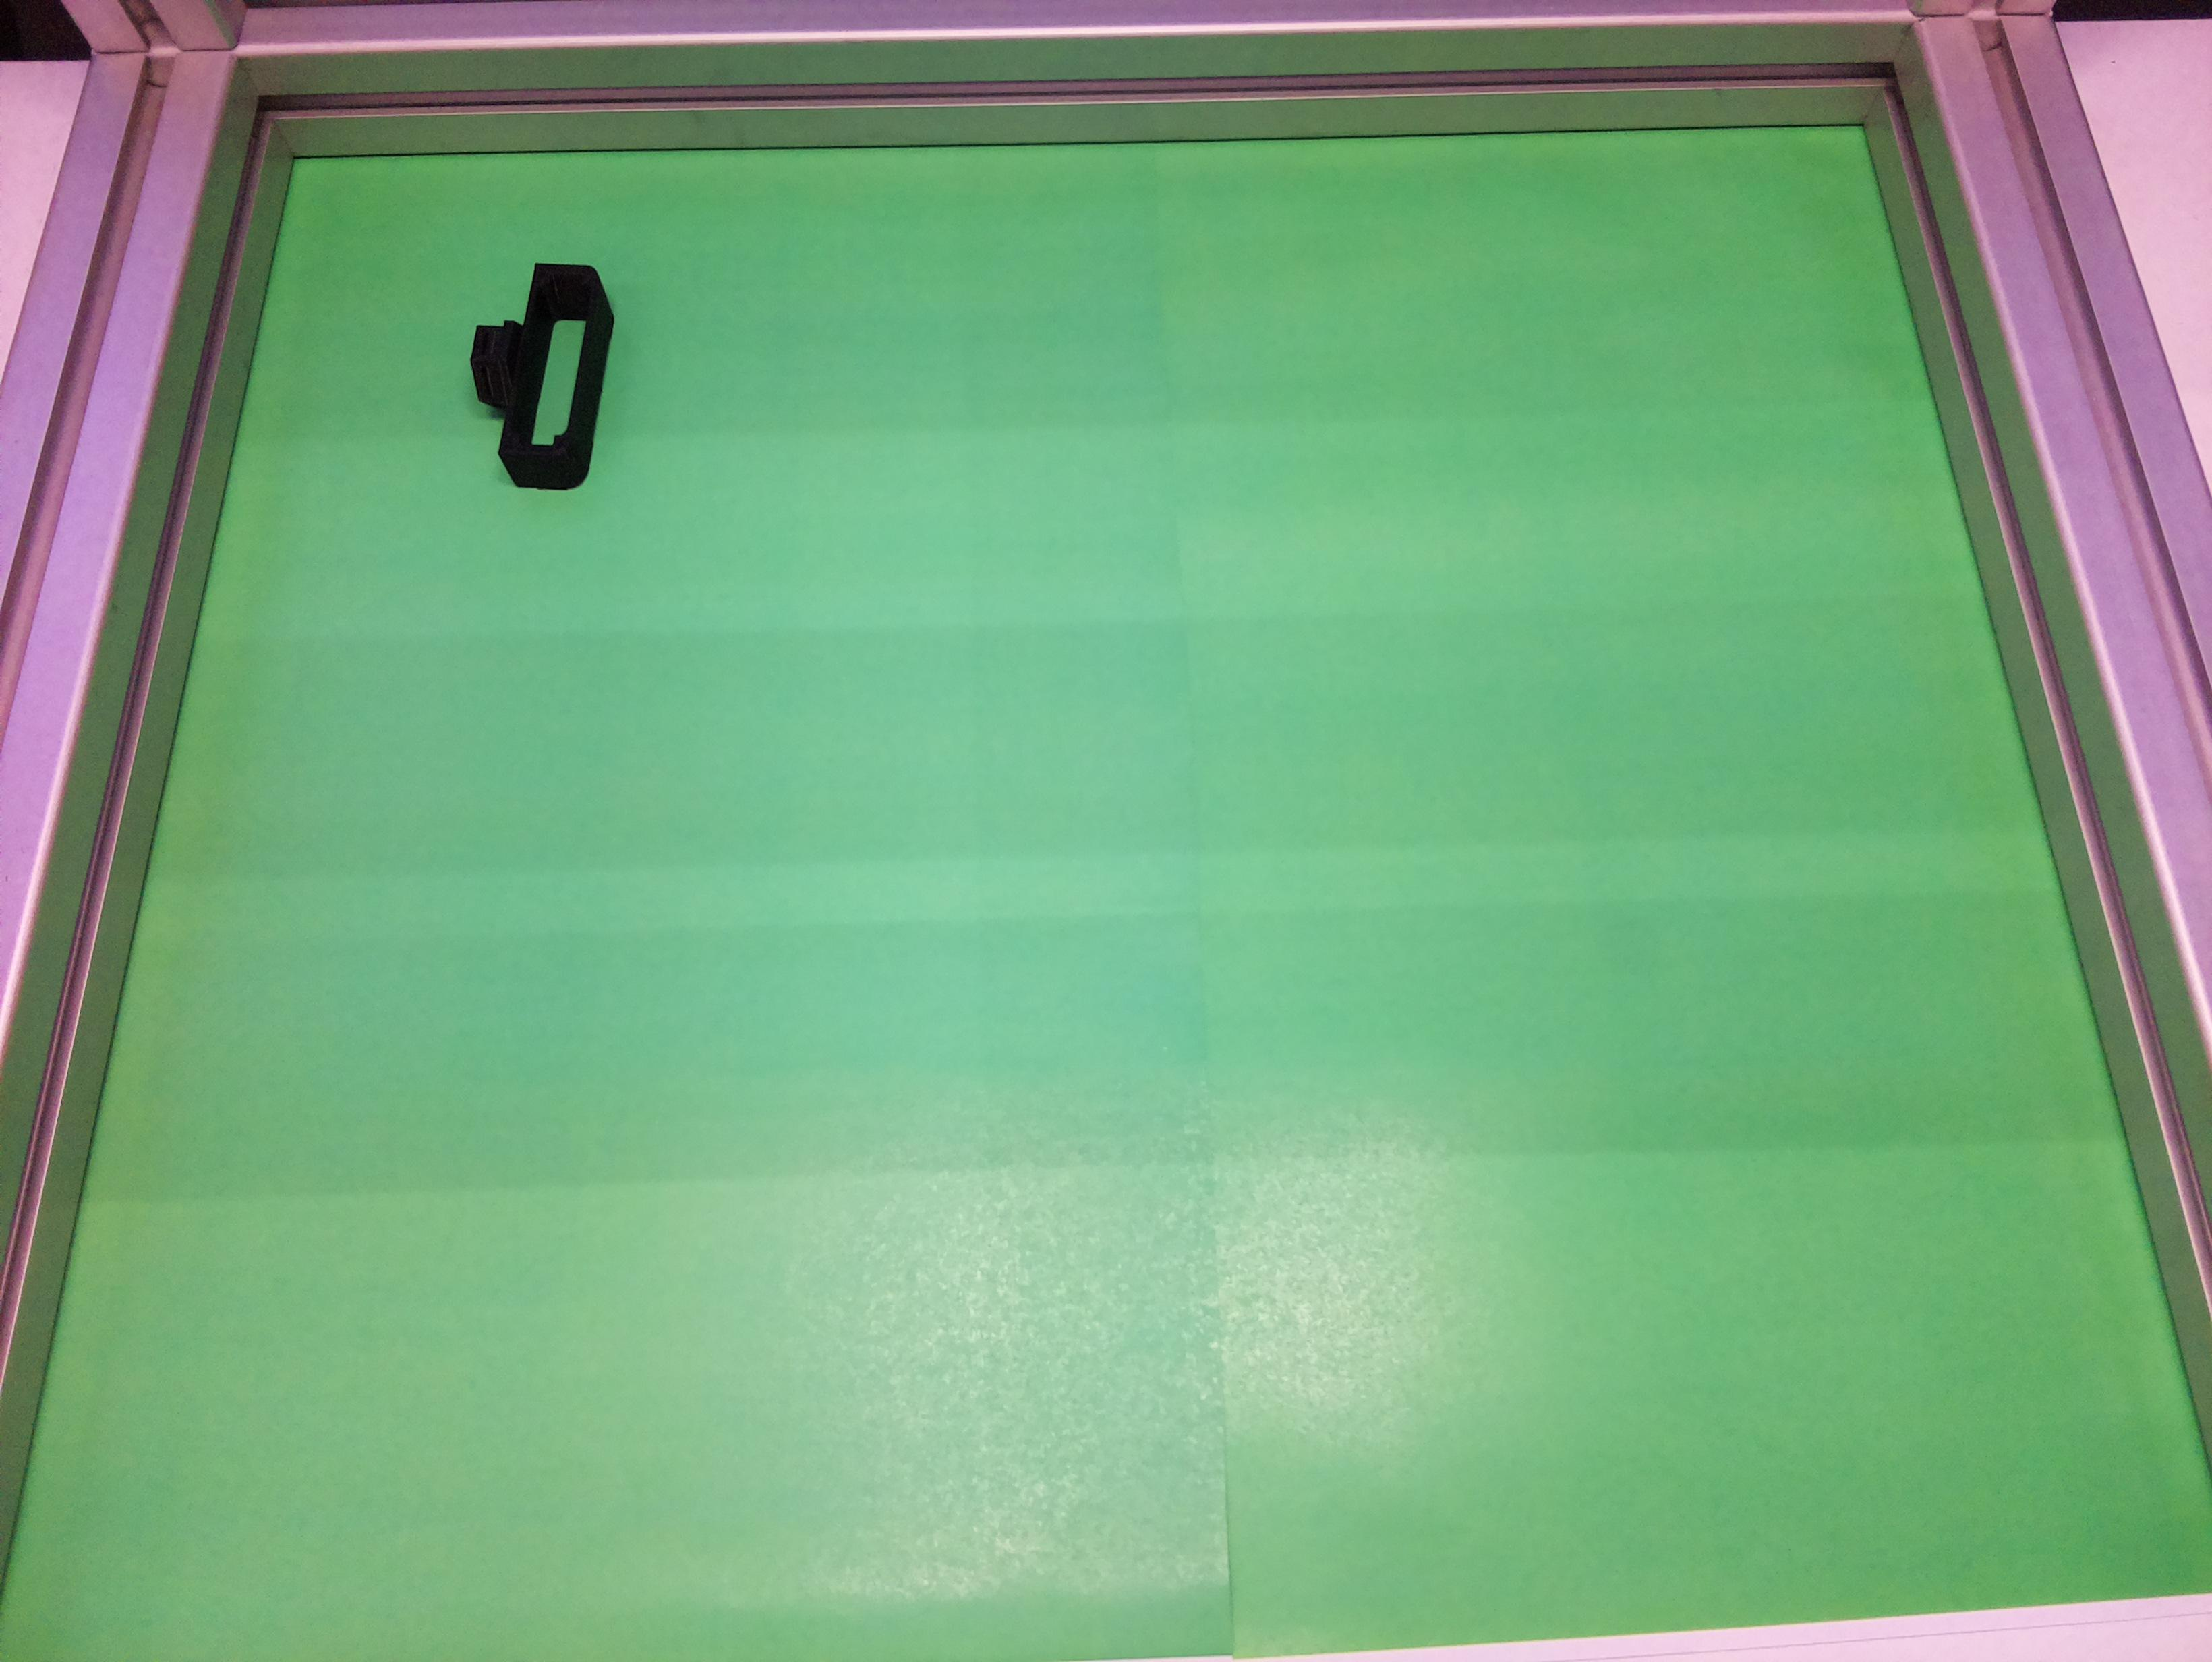cutter_holder: (451, 250, 622, 497)
